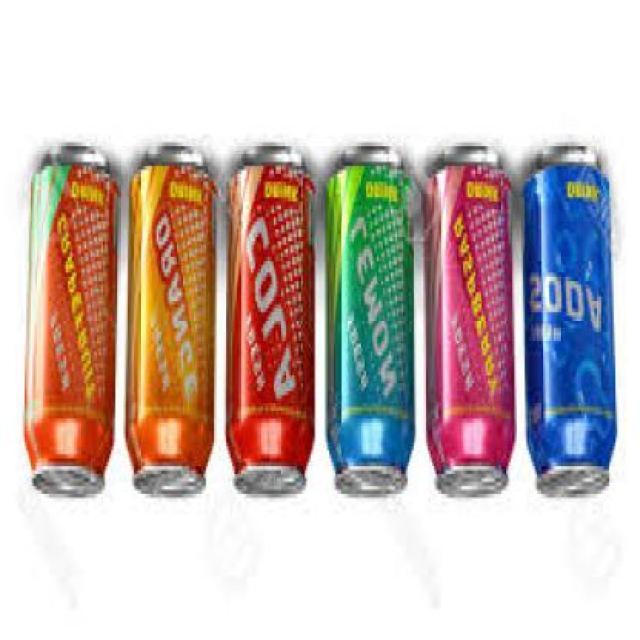METAL: (20, 147, 115, 498), (123, 150, 214, 498), (222, 154, 315, 494), (424, 150, 514, 498), (524, 154, 614, 501), (323, 154, 412, 498)
